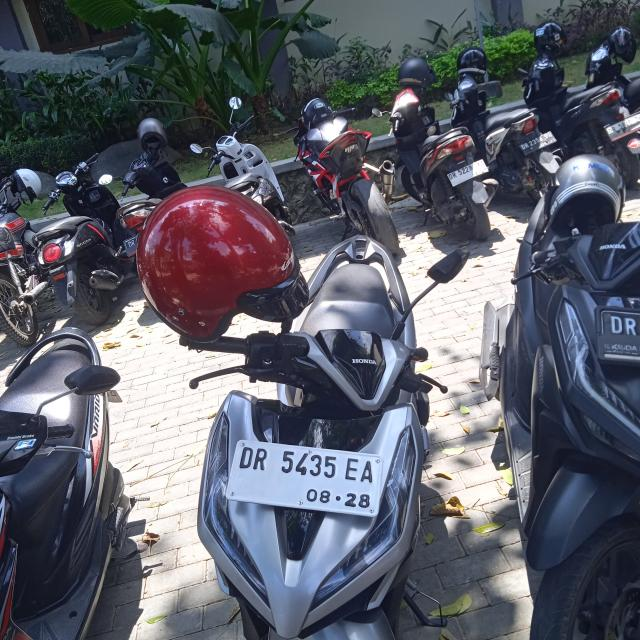plate: (224, 439, 384, 522), (447, 159, 488, 189), (520, 131, 557, 156)
